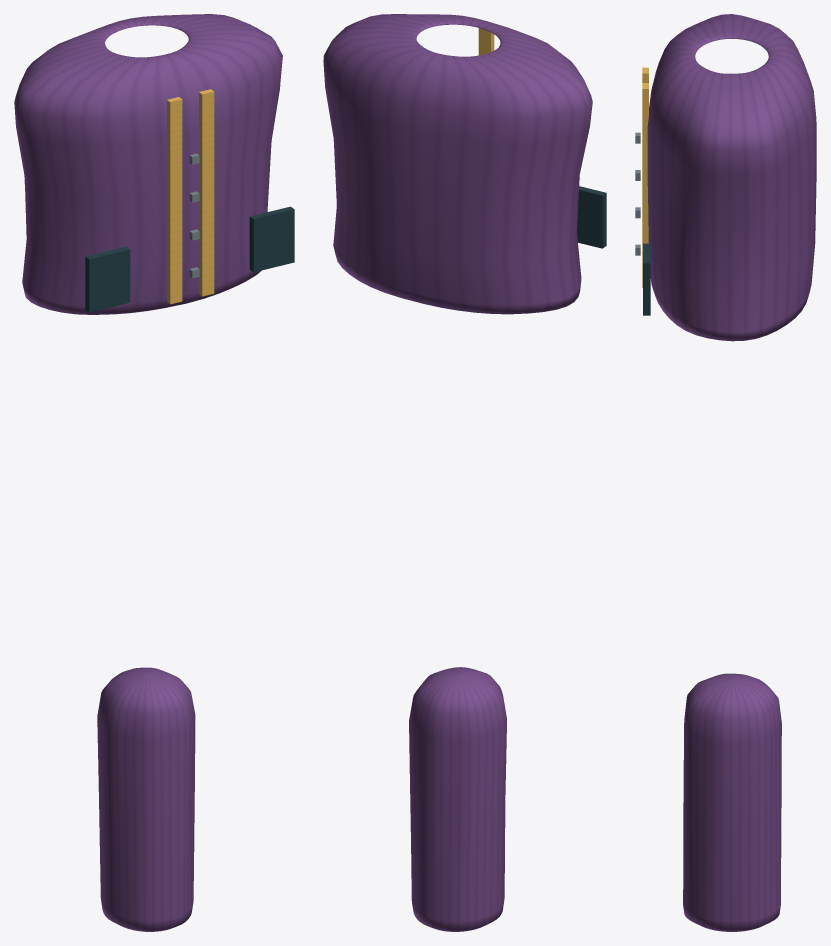
The model's file is reference_cardigan.gltf.
3 renders of one model, left to right at view 1: azimuth 30°, elevation 25°; view 2: azimuth 150°, elevation 25°; view 3: azimuth 270°, elevation 25°, orthographic.
Parts seen in each view (by area): view 1: Torso, SleeveL; view 2: Torso, SleeveL; view 3: Torso, SleeveL.
Part boxes in pixels (x1,y1,x2,y2): Torso: (14,14,294,314); SleeveL: (97,667,195,931); Torso: (323,14,606,314); SleeveL: (409,667,506,931); Torso: (635,14,816,341); SleeveL: (683,673,781,931).
Bounding box in the file's own units: 0.5276 × 1.73 × 0.3303.
4 materials, 4 textured.
